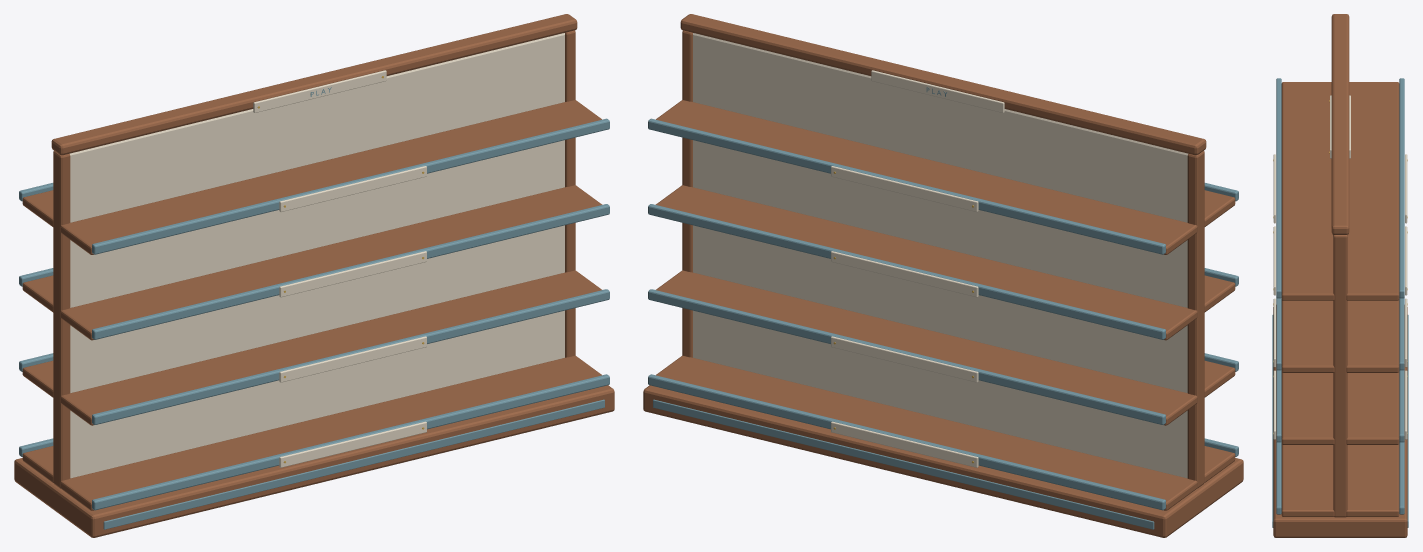
File: CozyGamingShelf_v02.fbx
3 renders of one model, left to right at view 1: azimuth 30°, elevation 25°; view 2: azimuth 150°, elevation 25°; view 3: azimuth 270°, elevation 25°, orthographic. The views are drawn at different scales.
Visible parts, largest first — view 1: CGS02_Cream_Central_Spine, CGS02_Front_Row_2_Oak_Deck, CGS02_Front_Row_1_Oak_Deck, CGS02_Front_Row_3_Oak_Deck, CGS02_Front_Row_4_Oak_Deck, CGS02_Oak_Stable_Platform, CGS02_Oak_Rounded_Top, CGS02_Oak_Spine_End_-1, CGS02_Front_Row_3_Blue_Retaining_Lip, CGS02_Front_Row_1_Blue_Retaining_Lip, CGS02_Front_Row_4_Blue_Retaining_Lip, CGS02_Front_Row_2_Blue_Retaining_Lip (+11 smaller); view 2: CGS02_Cream_Central_Spine, CGS02_Back_Row_2_Oak_Deck, CGS02_Back_Row_1_Oak_Deck, CGS02_Back_Row_3_Oak_Deck, CGS02_Back_Row_4_Oak_Deck, CGS02_Oak_Stable_Platform, CGS02_Oak_Rounded_Top, CGS02_Oak_Spine_End_-1, CGS02_Back_Row_3_Blue_Retaining_Lip, CGS02_Back_Row_1_Blue_Retaining_Lip, CGS02_Back_Row_4_Blue_Retaining_Lip, CGS02_Back_Row_2_Blue_Retaining_Lip (+11 smaller); view 3: CGS02_Back_Row_4_Oak_Deck, CGS02_Front_Row_4_Oak_Deck, CGS02_Oak_Rounded_Top, CGS02_Oak_Spine_End_1, CGS02_Oak_Stable_Platform, CGS02_Back_Row_3_Oak_Deck, CGS02_Front_Row_3_Oak_Deck, CGS02_Back_Row_2_Oak_Deck, CGS02_Front_Row_2_Oak_Deck, CGS02_Back_Row_1_Oak_Deck, CGS02_Front_Row_1_Oak_Deck, CGS02_Back_Row_4_Blue_Retaining_Lip (+17 smaller).
Part boxes in pixels (bbox=[...]): CGS02_Cream_Central_Spine: bbox=[70, 33, 564, 478]; CGS02_Front_Row_2_Oak_Deck: bbox=[60, 270, 601, 425]; CGS02_Front_Row_1_Oak_Deck: bbox=[60, 355, 601, 510]; CGS02_Front_Row_3_Oak_Deck: bbox=[60, 185, 602, 340]; CGS02_Front_Row_4_Oak_Deck: bbox=[60, 100, 601, 254]; CGS02_Oak_Stable_Platform: bbox=[14, 385, 614, 537]; CGS02_Oak_Rounded_Top: bbox=[51, 14, 577, 155]; CGS02_Oak_Spine_End_-1: bbox=[53, 151, 70, 488]; CGS02_Front_Row_3_Blue_Retaining_Lip: bbox=[92, 204, 609, 339]; CGS02_Front_Row_1_Blue_Retaining_Lip: bbox=[92, 374, 609, 510]; CGS02_Front_Row_4_Blue_Retaining_Lip: bbox=[92, 118, 609, 254]; CGS02_Front_Row_2_Blue_Retaining_Lip: bbox=[92, 289, 609, 424]; CGS02_Cream_Central_Spine: bbox=[693, 33, 1187, 478]; CGS02_Back_Row_2_Oak_Deck: bbox=[656, 270, 1197, 425]; CGS02_Back_Row_1_Oak_Deck: bbox=[656, 355, 1197, 510]; CGS02_Back_Row_3_Oak_Deck: bbox=[655, 185, 1197, 340]; CGS02_Back_Row_4_Oak_Deck: bbox=[656, 100, 1197, 254]; CGS02_Oak_Stable_Platform: bbox=[643, 385, 1243, 537]; CGS02_Oak_Rounded_Top: bbox=[680, 14, 1206, 155]; CGS02_Oak_Spine_End_-1: bbox=[1187, 151, 1204, 488]; CGS02_Back_Row_3_Blue_Retaining_Lip: bbox=[648, 204, 1165, 339]; CGS02_Back_Row_1_Blue_Retaining_Lip: bbox=[648, 374, 1165, 510]; CGS02_Back_Row_4_Blue_Retaining_Lip: bbox=[648, 118, 1165, 254]; CGS02_Back_Row_2_Blue_Retaining_Lip: bbox=[648, 289, 1165, 424]; CGS02_Back_Row_4_Oak_Deck: bbox=[1346, 82, 1399, 300]; CGS02_Front_Row_4_Oak_Deck: bbox=[1281, 82, 1334, 300]; CGS02_Oak_Rounded_Top: bbox=[1331, 14, 1349, 234]; CGS02_Oak_Spine_End_1: bbox=[1333, 235, 1347, 517]; CGS02_Oak_Stable_Platform: bbox=[1273, 305, 1407, 537]; CGS02_Back_Row_3_Oak_Deck: bbox=[1346, 299, 1399, 372]; CGS02_Front_Row_3_Oak_Deck: bbox=[1281, 299, 1334, 372]; CGS02_Back_Row_2_Oak_Deck: bbox=[1346, 371, 1399, 444]; CGS02_Front_Row_2_Oak_Deck: bbox=[1281, 371, 1334, 444]; CGS02_Back_Row_1_Oak_Deck: bbox=[1346, 444, 1399, 516]; CGS02_Front_Row_1_Oak_Deck: bbox=[1281, 444, 1334, 516]; CGS02_Back_Row_4_Blue_Retaining_Lip: bbox=[1399, 78, 1404, 298].
Bounding box in the file's own units: 553 × 371 × 147.
